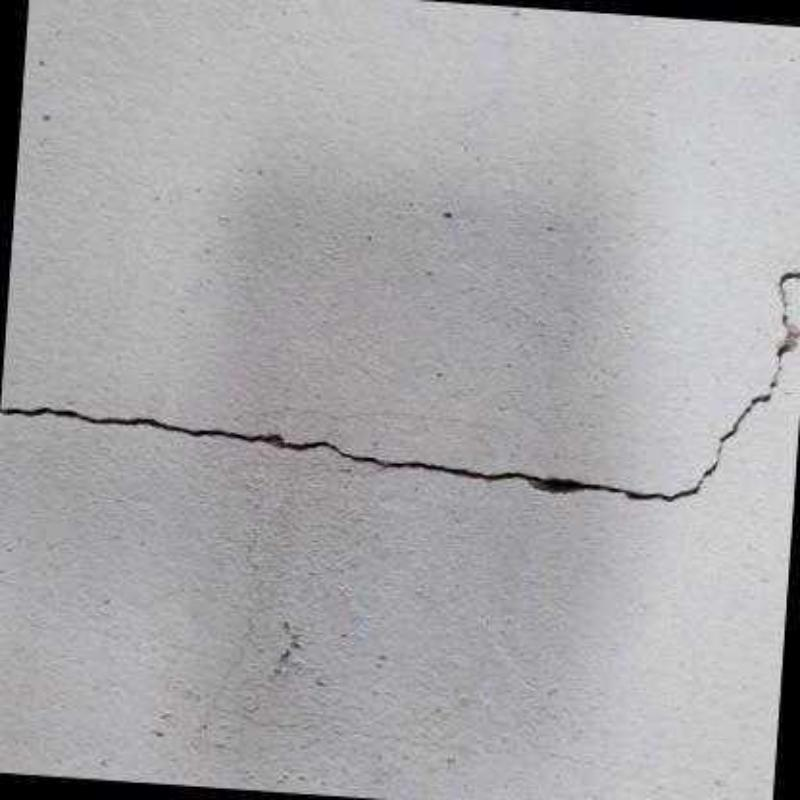pothole: (0, 273, 800, 503)
